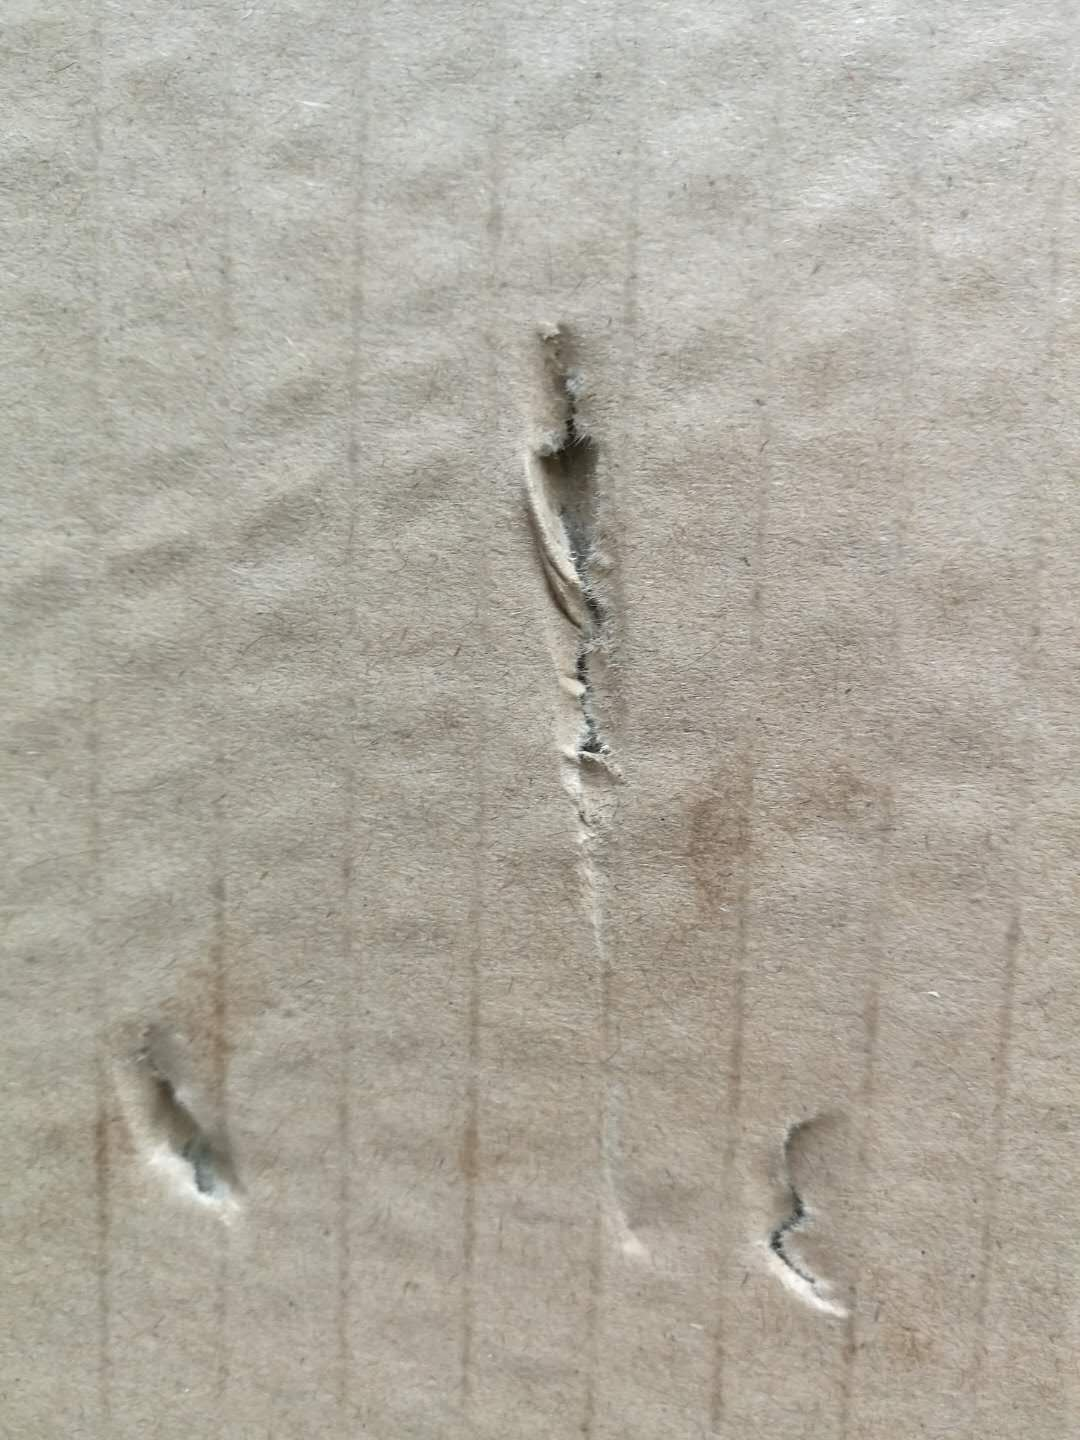defect: (459, 287, 719, 999), (81, 993, 282, 1257), (714, 1078, 916, 1335), (588, 1127, 691, 1291)
